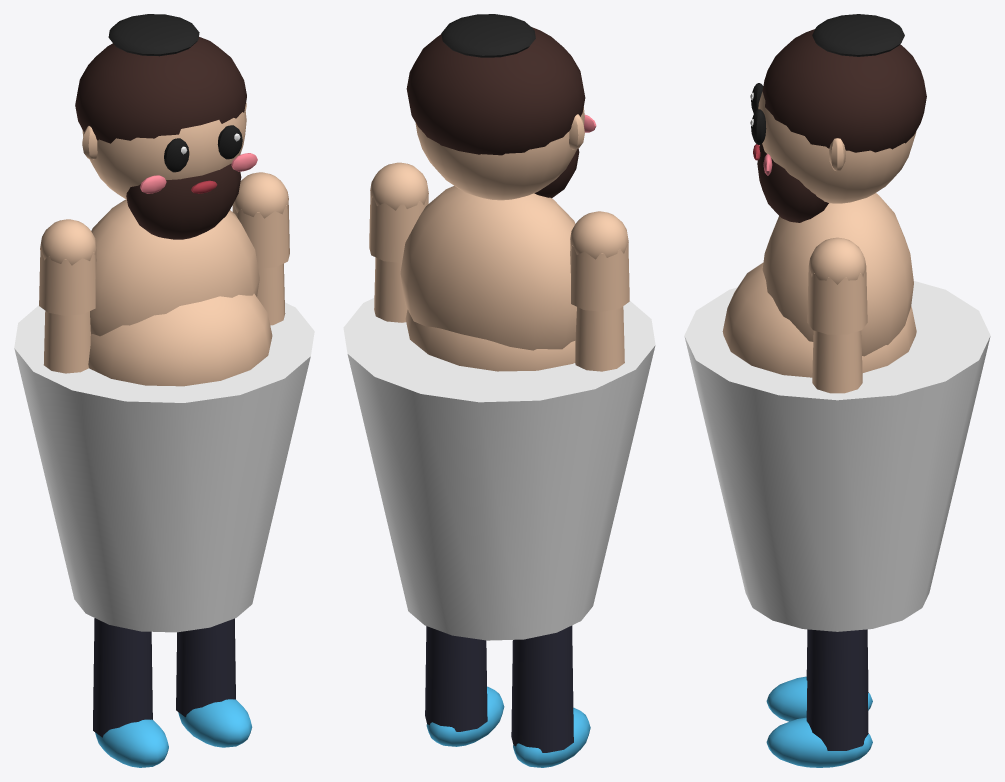
File: homes_dad.glb
3 views of the same model, side by side, from view 1: azimuth 30°, elevation 25°; view 2: azimuth 150°, elevation 25°; view 3: azimuth 270°, elevation 25° (orthographic). The views are drawn at different scales.
Parts seen in each view (by area): view 1: Body.001, Leg_R.001, Arm_R.001, Leg_L.001, Arm_L.001; view 2: Body.001, Leg_R.001, Arm_R.001, Leg_L.001, Arm_L.001; view 3: Body.001, Leg_L.001, Arm_L.001, Leg_R.001.
Boxes of the visible parts, x1,y1,x2,y2 form: Body.001: (14,14,314,632); Leg_R.001: (93,618,168,767); Arm_R.001: (39,219,96,373); Leg_L.001: (176,618,252,747); Arm_L.001: (232,172,289,325); Body.001: (343,14,655,640); Leg_R.001: (511,625,590,767); Arm_R.001: (570,211,629,371); Leg_L.001: (425,626,504,746); Arm_L.001: (369,162,428,322); Body.001: (684,14,990,631); Leg_L.001: (766,629,872,767); Arm_L.001: (807,237,867,393); Leg_R.001: (766,629,872,721).
Bounding box in the file's own units: 0.7326 × 1.89 × 0.7326.
